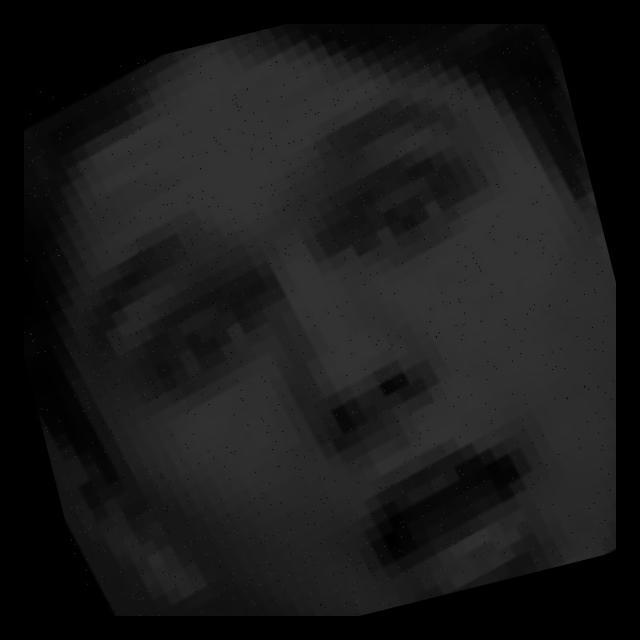Surprised: (92, 83, 586, 602)
